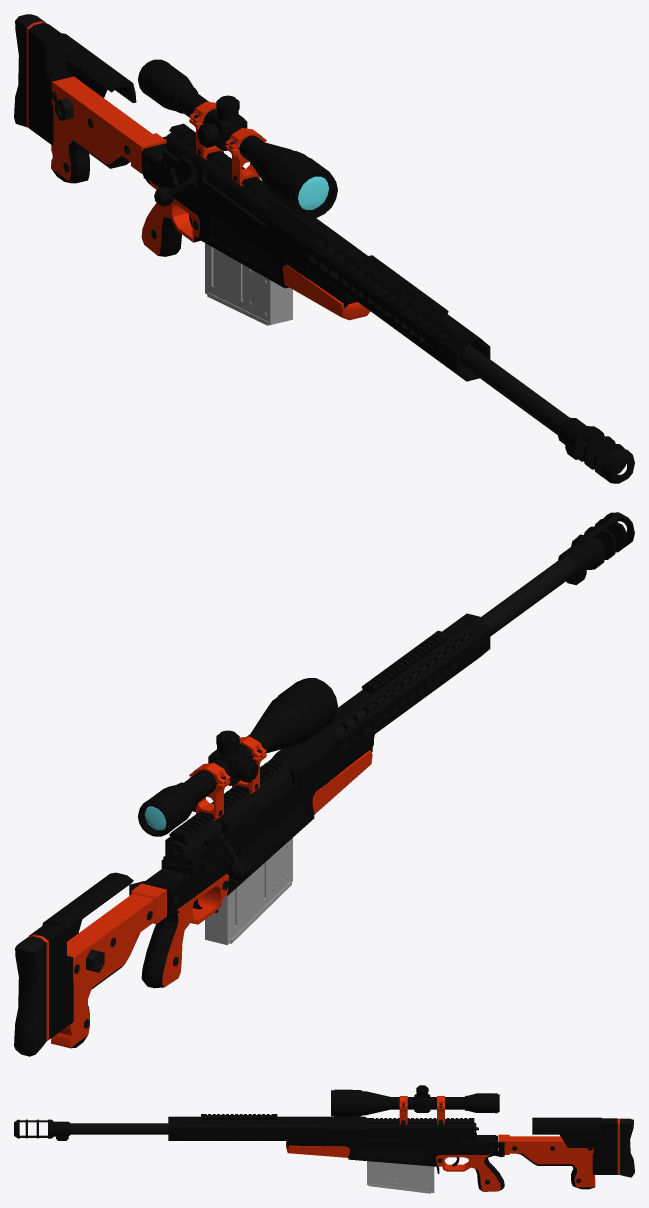
Rendered from aiax50.fbx.
3 views of the same model, one above another, from view 1: azimuth 30°, elevation 25°; view 2: azimuth 150°, elevation 25°; view 3: azimuth 270°, elevation 25° (orthographic). The views are drawn at different scales.
Visible parts, largest first — view 1: polySurface9, polySurface12; view 2: polySurface9, polySurface12; view 3: polySurface9, polySurface12.
Part boxes in pixels (box(x1,y1,x2,y2)): polySurface9: box(14, 14, 634, 483); polySurface12: box(205, 243, 292, 325); polySurface9: box(14, 512, 634, 1056); polySurface12: box(205, 838, 292, 945); polySurface9: box(14, 1085, 634, 1191); polySurface12: box(367, 1161, 434, 1193).
Size of the model in its own units: 9.93 by 27.63 by 150.
